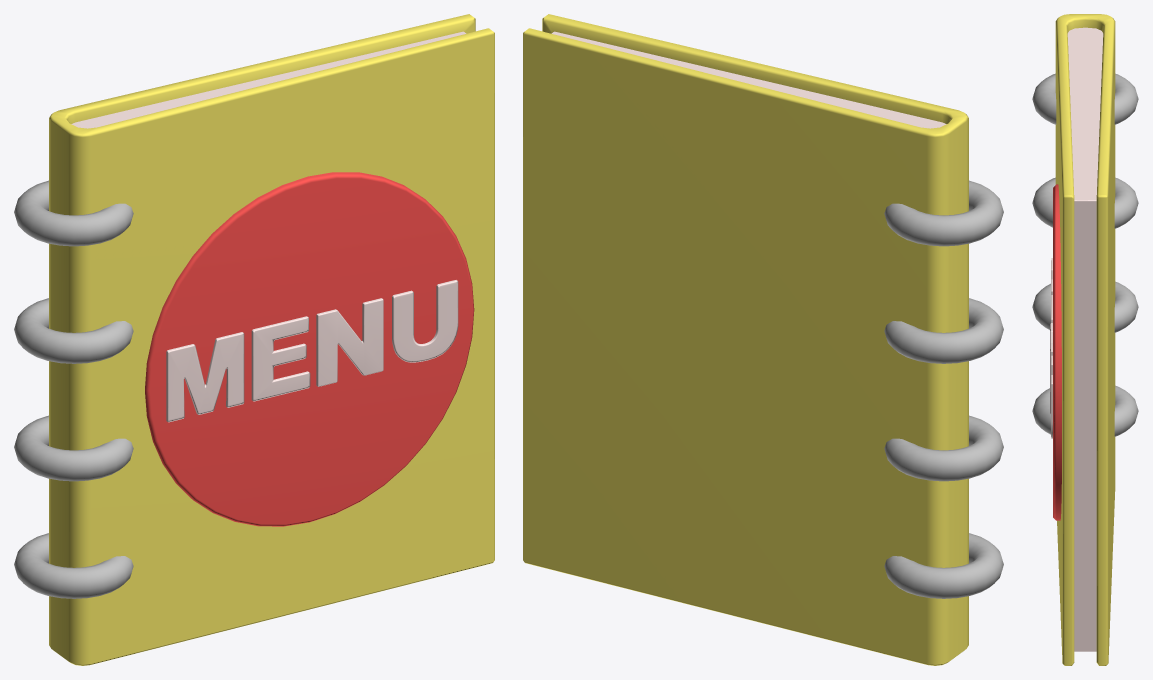
The model's file is Store_20_Big_Menu_1.glb.
3 renders of one model, left to right at view 1: azimuth 30°, elevation 25°; view 2: azimuth 150°, elevation 25°; view 3: azimuth 270°, elevation 25°, orthographic. The views are drawn at different scales.
Visible parts, largest first — view 1: Store_20_Big_Menu_1; view 2: Store_20_Big_Menu_1; view 3: Store_20_Big_Menu_1.
Part boxes in pixels (x1,y1,x2,y2): Store_20_Big_Menu_1: (14, 14, 494, 665); Store_20_Big_Menu_1: (523, 14, 1003, 665); Store_20_Big_Menu_1: (1032, 14, 1138, 665).
Bounding box in the file's own units: 4.09 × 4.5 × 0.9214.
1 material, 1 textured.
